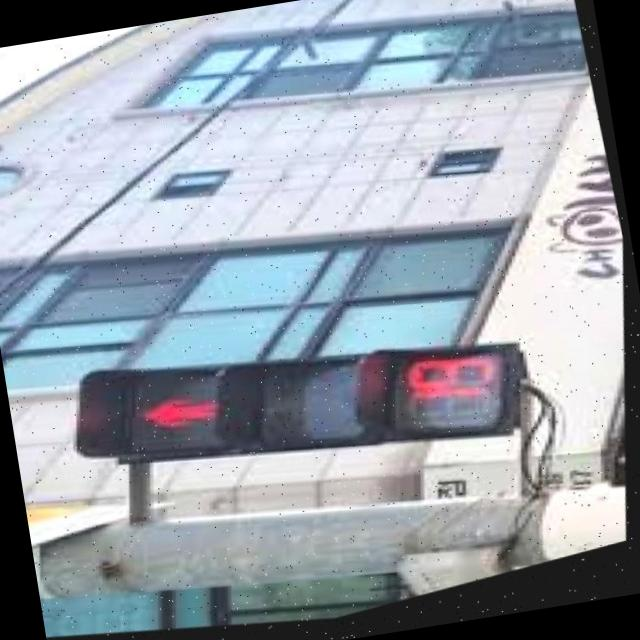red_light: (121, 290, 532, 521)
